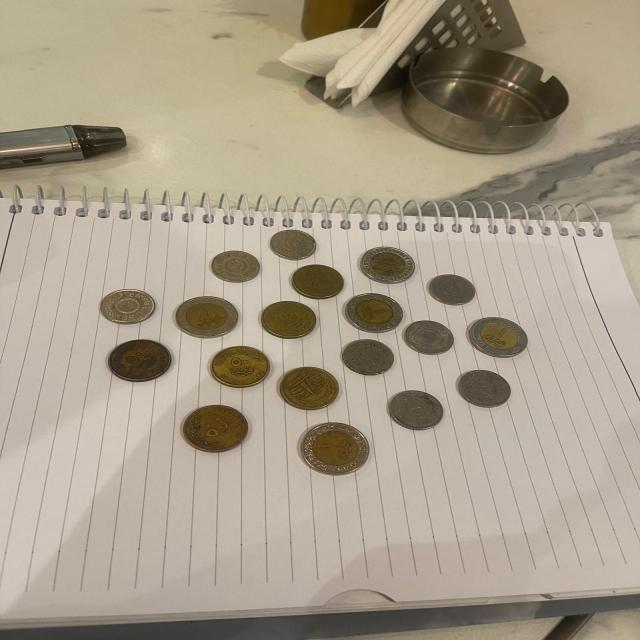quarter pound: (336, 341, 401, 380), (403, 319, 457, 355), (426, 272, 480, 306)
